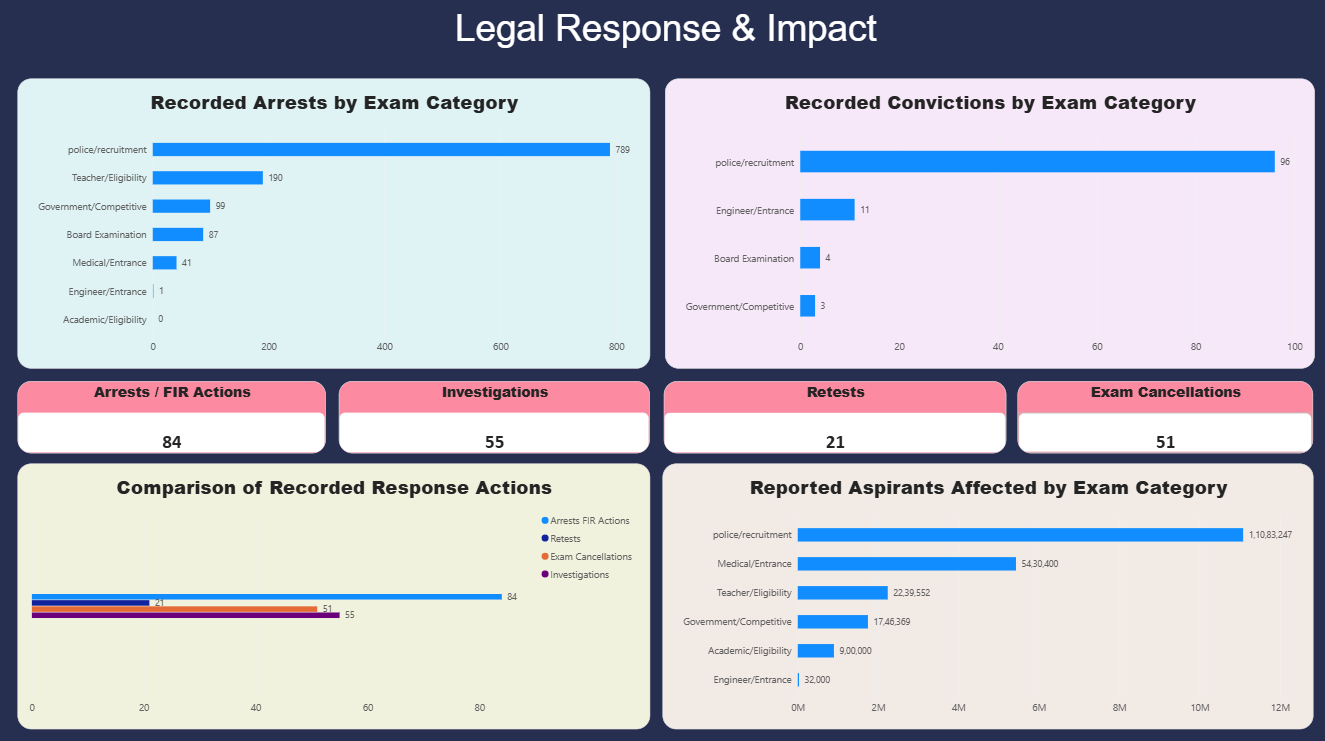

The dashboard page shown, as its layout file describes it:
{"tool":"powerbi","page":{"name":"Legal Response and Impact","canvas":[1920,1080],"ordinal":1},"visuals":[{"type":"clusteredBarChart","title":"Recorded Arrests by Exam Category","fields":{"Category":["paper_leaks_cleaned.exam_category"],"Y":["Sum(paper_leaks_cleaned.arrests_numeric)"]},"box":[24.7,119.4,916,419.9],"z":0},{"type":"clusteredBarChart","title":"Recorded Convictions by Exam Category","fields":{"Category":["paper_leaks_cleaned.exam_category"],"Y":["Sum(paper_leaks_cleaned.convictions_numeric)"]},"box":[963.3,119.4,940.7,419.9],"z":1000},{"type":"cardVisual","title":"Exam Cancellations","fields":{"Data":["paper_leaks_cleaned.Exam Cancellations"]},"box":[1473.8,557.8,428.1,105],"z":2000},{"type":"cardVisual","title":"Arrests / FIR Actions","fields":{"Data":["paper_leaks_cleaned.Arrests FIR Actions"]},"box":[24.7,557.8,446.7,105],"z":3000},{"type":"cardVisual","title":"Retests","fields":{"Data":["paper_leaks_cleaned.Retests"]},"box":[961.2,557.8,496.1,105],"z":4000},{"type":"cardVisual","title":"Investigations","fields":{"Data":["paper_leaks_cleaned.Investigations"]},"box":[489.9,557.8,450.8,105],"z":5000},{"type":"clusteredBarChart","title":"Comparison of Recorded Response Actions","fields":{"Y":["paper_leaks_cleaned.Arrests FIR Actions","paper_leaks_cleaned.Retests","paper_leaks_cleaned.Exam Cancellations","paper_leaks_cleaned.Investigations"]},"box":[24.7,677.2,916,384.9],"z":5001},{"type":"clusteredBarChart","title":"Reported Aspirants Affected by Exam Category","fields":{"Category":["paper_leaks_cleaned.exam_category"],"Y":["Sum(paper_leaks_cleaned.aspirants_affected_numeric)"]},"box":[959.2,677.2,942.7,384.9],"z":5002},{"type":"textbox","box":[24.7,16.5,1877.2,70],"z":5003}]}

Visuals, with their boxes in screenshot pixels (x1, y1, x2, y2), scaled from the page's 1920x1080 canvas onto the 1325x741 screenshot:
"Recorded Arrests by Exam Category" clusteredBarChart: (17,82,649,370)
"Recorded Convictions by Exam Category" clusteredBarChart: (665,82,1314,370)
"Exam Cancellations" cardVisual: (1017,383,1313,455)
"Arrests / FIR Actions" cardVisual: (17,383,325,455)
"Retests" cardVisual: (663,383,1006,455)
"Investigations" cardVisual: (338,383,649,455)
"Comparison of Recorded Response Actions" clusteredBarChart: (17,465,649,729)
"Reported Aspirants Affected by Exam Category" clusteredBarChart: (662,465,1313,729)
textbox: (17,11,1313,59)
